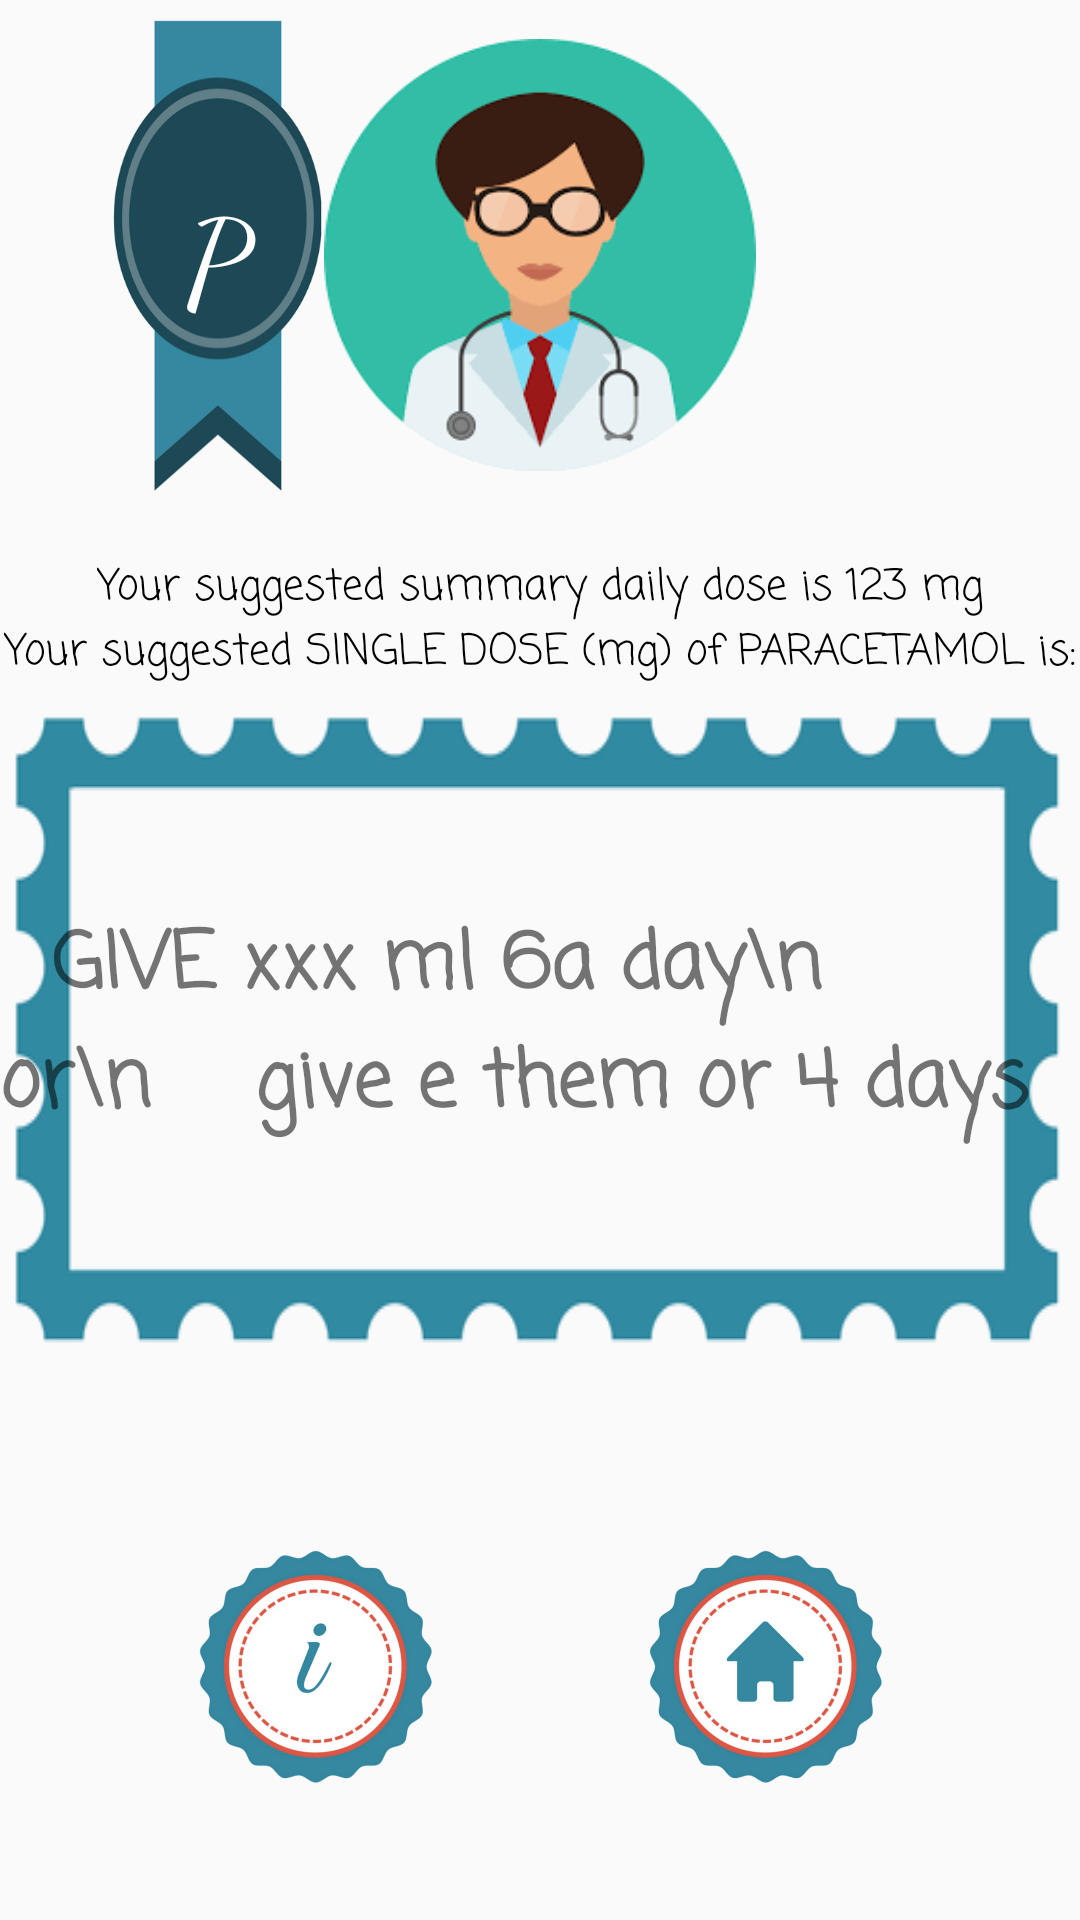

Icons on this 1080px x 1920px Android screen, each with its box as bbox=[x1, y1, x2, y2]:
home: bbox=[650, 1551, 882, 1783]
info: bbox=[200, 1551, 432, 1783]
